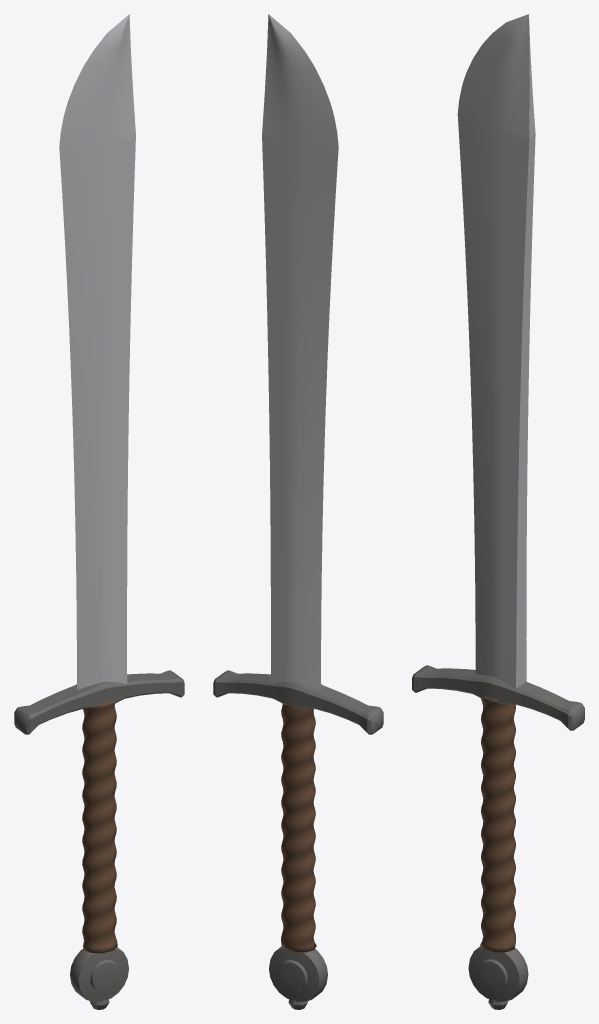
The model's file is falchion.glb.
3 views of the same model, side by side, from view 1: azimuth 30°, elevation 25°; view 2: azimuth 150°, elevation 25°; view 3: azimuth 330°, elevation 25° (orthographic).
Visible parts, largest first — view 1: falchion; view 2: falchion; view 3: falchion.
Boxes of the visible parts, <box> form: falchion: <box>14,14,184,1009</box>; falchion: <box>213,14,383,1009</box>; falchion: <box>412,14,584,1009</box>.
Size of the model in its own units: 0.4 by 2.31 by 0.0666.
